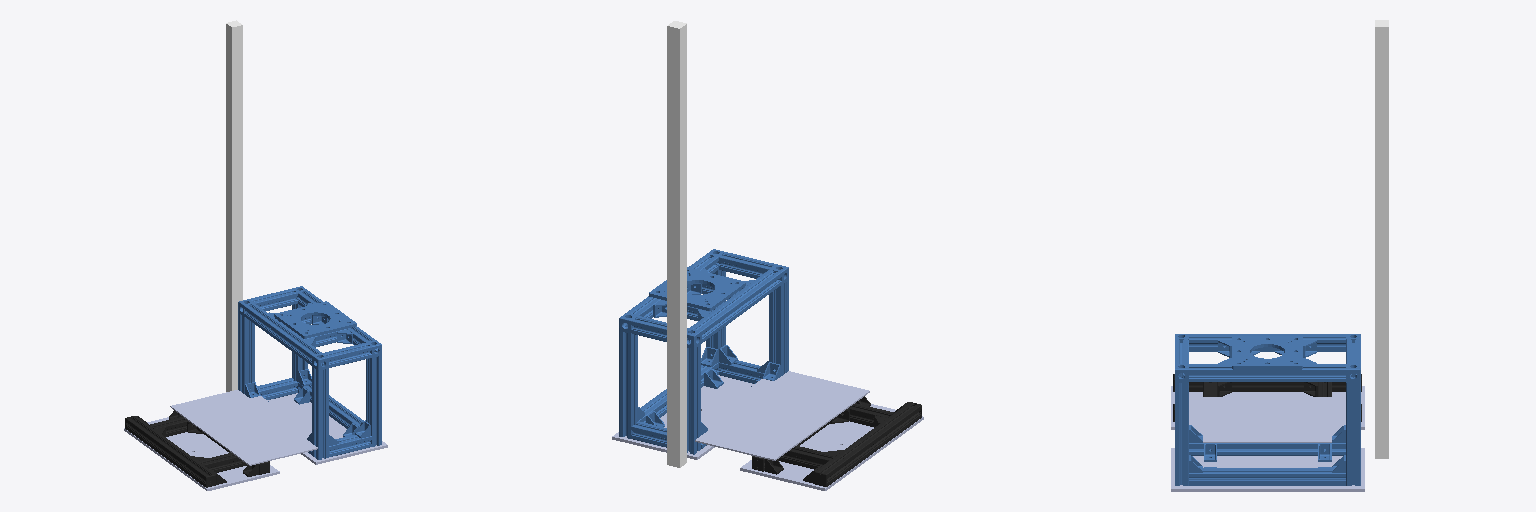
URDF robot description (urdf_visualizer):
<?xml version="1.0" encoding="utf-8"?>
<!-- This URDF was automatically created by SolidWorks to URDF Exporter! Originally created by [author] ([email redacted]) 
     Commit Version: 1.6.0-1-g15f4949  Build Version: 1.6.7594.29634
     For more information, please see http://wiki.ros.org/sw_urdf_exporter -->
<robot
  name="urdf_visualizer">
  <link
    name="structure_base">
    <inertial>
      <origin
        xyz="0.00053394 -0.00074037 0.057025"
        rpy="0 0 0" />
      <mass
        value="0.93175" />
      <inertia
        ixx="0.025261"
        ixy="-3.427E-05"
        ixz="-1.0125E-20"
        iyy="0.0080646"
        iyz="-7.6497E-20"
        izz="0.033322" />
    </inertial>
    <visual>
      <origin
        xyz="0 0 0"
        rpy="0 0 0" />
      <geometry>
        <mesh
          filename="package://urdf_visualizer/meshes/structure_base.STL" />
      </geometry>
      <material
        name="">
        <color
          rgba="0.79216 0.81961 0.93333 1" />
      </material>
    </visual>
    <collision>
      <origin
        xyz="0 0 0"
        rpy="0 0 0" />
      <geometry>
        <mesh
          filename="package://urdf_visualizer/meshes/structure_base.STL" />
      </geometry>
    </collision>
  </link>
  <link
    name="front_plate">
    <inertial>
      <origin
        xyz="0.0001243 -4.5103E-17 0.0047625"
        rpy="0 0 0" />
      <mass
        value="1.7643" />
      <inertia
        ixx="0.054775"
        ixy="-9.9446E-19"
        ixz="1.7219E-20"
        iyy="0.013677"
        iyz="-1.2771E-20"
        izz="0.068426" />
    </inertial>
    <visual>
      <origin
        xyz="0 0 0"
        rpy="0 0 0" />
      <geometry>
        <mesh
          filename="package://urdf_visualizer/meshes/front_plate.STL" />
      </geometry>
      <material
        name="">
        <color
          rgba="0.79216 0.81961 0.93333 1" />
      </material>
    </visual>
    <collision>
      <origin
        xyz="0 0 0"
        rpy="0 0 0" />
      <geometry>
        <mesh
          filename="package://urdf_visualizer/meshes/front_plate.STL" />
      </geometry>
    </collision>
  </link>
  <joint
    name="front_plate_joint"
    type="fixed">
    <origin
      xyz="0.26401 0 0"
      rpy="0 0 0" />
    <parent
      link="structure_base" />
    <child
      link="front_plate" />
    <axis
      xyz="0 0 0" />
  </joint>
  <link
    name="front_structure">
    <inertial>
      <origin
        xyz="0 -0.0047667 0.21635"
        rpy="0 0 0" />
      <mass
        value="3.0506" />
      <inertia
        ixx="0.030259"
        ixy="-3.6628E-11"
        ixz="1.9467E-16"
        iyy="0.010629"
        iyz="1.9469E-16"
        izz="0.02365" />
    </inertial>
    <visual>
      <origin
        xyz="0 0 0"
        rpy="0 0 0" />
      <geometry>
        <mesh
          filename="package://urdf_visualizer/meshes/front_structure.STL" />
      </geometry>
      <material
        name="">
        <color
          rgba="0.33725 0.52941 0.75686 1" />
      </material>
    </visual>
    <collision>
      <origin
        xyz="0 0 0"
        rpy="0 0 0" />
      <geometry>
        <mesh
          filename="package://urdf_visualizer/meshes/front_structure.STL" />
      </geometry>
    </collision>
  </link>
  <joint
    name="front_structure_joint"
    type="fixed">
    <origin
      xyz="0 0 0.011925"
      rpy="0 0 0" />
    <parent
      link="front_plate" />
    <child
      link="front_structure" />
    <axis
      xyz="0 0 0" />
  </joint>
  <link
    name="robot_mount">
    <inertial>
      <origin
        xyz="3.6942E-09 1.9231E-09 -0.0056497"
        rpy="0 0 0" />
      <mass
        value="0.44151" />
      <inertia
        ixx="0.0021724"
        ixy="-9.242E-07"
        ixz="1.3802E-12"
        iyy="0.0021724"
        iyz="7.5078E-13"
        izz="0.0043355" />
    </inertial>
    <visual>
      <origin
        xyz="0 0 0"
        rpy="0 0 0" />
      <geometry>
        <mesh
          filename="package://urdf_visualizer/meshes/robot_mount.STL" />
      </geometry>
      <material
        name="">
        <color
          rgba="0.33725 0.52941 0.75686 1" />
      </material>
    </visual>
    <collision>
      <origin
        xyz="0 0 0"
        rpy="0 0 0" />
      <geometry>
        <mesh
          filename="package://urdf_visualizer/meshes/robot_mount.STL" />
      </geometry>
    </collision>
  </link>
  <joint
    name="robot_mount_joint"
    type="fixed">
    <origin
      xyz="0.0225 0 0.41385"
      rpy="0 0 0" />
    <parent
      link="front_structure" />
    <child
      link="robot_mount" />
    <axis
      xyz="0 0 0" />
  </joint>
  <link
    name="rear_plate">
    <inertial>
      <origin
        xyz="-8.8189E-05 -2.3592E-16 0.0047625"
        rpy="0 0 0" />
      <mass
        value="1.7661" />
      <inertia
        ixx="0.054676"
        ixy="-4.2446E-18"
        ixz="-8.5997E-20"
        iyy="0.01368"
        iyz="3.6207E-20"
        izz="0.068328" />
    </inertial>
    <visual>
      <origin
        xyz="0 0 0"
        rpy="0 0 0" />
      <geometry>
        <mesh
          filename="package://urdf_visualizer/meshes/rear_plate.STL" />
      </geometry>
      <material
        name="">
        <color
          rgba="0.79216 0.81961 0.93333 1" />
      </material>
    </visual>
    <collision>
      <origin
        xyz="0 0 0"
        rpy="0 0 0" />
      <geometry>
        <mesh
          filename="package://urdf_visualizer/meshes/rear_plate.STL" />
      </geometry>
    </collision>
  </link>
  <joint
    name="rear_plate_joint"
    type="fixed">
    <origin
      xyz="-0.19368 0 0"
      rpy="0 0 0" />
    <parent
      link="structure_base" />
    <child
      link="rear_plate" />
    <axis
      xyz="0 0 0" />
  </joint>
  <link
    name="rear_strucuture">
    <inertial>
      <origin
        xyz="-1.1102E-16 -9.3675E-17 0.020184"
        rpy="0 0 0" />
      <mass
        value="1.0432" />
      <inertia
        ixx="0.017816"
        ixy="1.1339E-11"
        ixz="-1.204E-20"
        iyy="0.00087091"
        iyz="2.1262E-20"
        izz="0.018287" />
    </inertial>
    <visual>
      <origin
        xyz="0 0 0"
        rpy="0 0 0" />
      <geometry>
        <mesh
          filename="package://urdf_visualizer/meshes/rear_strucuture.STL" />
      </geometry>
      <material
        name="">
        <color
          rgba="0.19608 0.19608 0.19608 1" />
      </material>
    </visual>
    <collision>
      <origin
        xyz="0 0 0"
        rpy="0 0 0" />
      <geometry>
        <mesh
          filename="package://urdf_visualizer/meshes/rear_strucuture.STL" />
      </geometry>
    </collision>
  </link>
  <joint
    name="rear_strucuture_joint"
    type="fixed">
    <origin
      xyz="-0.0174 0 0.011025"
      rpy="0 0 0" />
    <parent
      link="rear_plate" />
    <child
      link="rear_strucuture" />
    <axis
      xyz="0 0 0" />
  </joint>
  <link
    name="controler">
    <inertial>
      <origin
        xyz="-0.0090029 0.0028411 0.16946"
        rpy="0 0 0" />
      <mass
        value="1.2104" />
      <inertia
        ixx="0.0073057"
        ixy="5.4395E-06"
        ixz="4.7115E-06"
        iyy="0.0041492"
        iyz="-0.00018983"
        izz="0.0063749" />
    </inertial>
    <visual>
      <origin
        xyz="0 0 0"
        rpy="0 0 0" />
      <geometry>
        <mesh
          filename="package://urdf_visualizer/meshes/controler.STL" />
      </geometry>
      <material
        name="">
        <color
          rgba="0.75294 0.75294 0.75294 1" />
      </material>
    </visual>
    <collision>
      <origin
        xyz="0 0 0"
        rpy="0 0 0" />
      <geometry>
        <mesh
          filename="package://urdf_visualizer/meshes/controler.STL" />
      </geometry>
    </collision>
  </link>
  <joint
    name="controler_joint"
    type="fixed">
    <origin
      xyz="-0.046276 -0.039281 0.0435"
      rpy="0 0 -0.0052941" />
    <parent
      link="rear_strucuture" />
    <child
      link="controler" />
    <axis
      xyz="0 0 0" />
  </joint>
  <link
    name="camera_mount">
    <inertial>
      <origin
        xyz="0 0 0"
        rpy="0 0 0" />
      <mass
        value="0" />
      <inertia
        ixx="0"
        ixy="0"
        ixz="0"
        iyy="0"
        iyz="0"
        izz="0" />
    </inertial>
    <visual>
      <origin
        xyz="0 0 0"
        rpy="0 0 0" />
      <geometry>
        <mesh
          filename="package://urdf_visualizer/meshes/camera_mount.STL" />
      </geometry>
      <material
        name="">
        <color
          rgba="1 1 1 1" />
      </material>
    </visual>
    <collision>
      <origin
        xyz="0 0 0"
        rpy="0 0 0" />
      <geometry>
        <mesh
          filename="package://urdf_visualizer/meshes/camera_mount.STL" />
      </geometry>
    </collision>
  </link>
  <joint
    name="camera_mount_joint"
    type="fixed">
    <origin
      xyz="0.15151 0.36 0"
      rpy="0 0 0" />
    <parent
      link="structure_base" />
    <child
      link="camera_mount" />
    <axis
      xyz="0 0 0" />
  </joint>
</robot>

--- Facts derived from the render (not from the file) ---
3 views of the same robot in one strip: view 1: azimuth 30°, elevation 25°; view 2: azimuth 150°, elevation 25°; view 3: azimuth 270°, elevation 25° (orthographic).
Model urdf_visualizer with 8 links and 7 joints (7 fixed), rooted at structure_base, posed every joint at zero.
Links seen in each view (by area): view 1: front_structure, structure_base, camera_mount, rear_strucuture, rear_plate, robot_mount, front_plate; view 2: front_structure, camera_mount, structure_base, rear_strucuture, rear_plate, front_plate, robot_mount; view 3: front_structure, structure_base, camera_mount, front_plate, robot_mount, rear_strucuture, rear_plate.
Link boxes in pixels (bbox=[...]): front_structure: bbox=[238, 286, 381, 459]; structure_base: bbox=[170, 390, 317, 465]; camera_mount: bbox=[226, 20, 242, 391]; rear_strucuture: bbox=[125, 410, 269, 487]; rear_plate: bbox=[124, 417, 279, 490]; robot_mount: bbox=[274, 301, 356, 338]; front_plate: bbox=[267, 393, 387, 464]; front_structure: bbox=[619, 249, 788, 454]; camera_mount: bbox=[667, 21, 686, 467]; structure_base: bbox=[695, 371, 869, 460]; rear_strucuture: bbox=[752, 396, 921, 486]; rear_plate: bbox=[740, 404, 923, 490]; front_plate: bbox=[612, 375, 753, 459]; robot_mount: bbox=[649, 267, 745, 310]; front_structure: bbox=[1175, 334, 1360, 485]; structure_base: bbox=[1189, 397, 1345, 442]; camera_mount: bbox=[1375, 20, 1388, 458]; front_plate: bbox=[1171, 448, 1364, 491]; robot_mount: bbox=[1232, 336, 1302, 369]; rear_strucuture: bbox=[1173, 374, 1361, 421]; rear_plate: bbox=[1171, 386, 1364, 429].
Size in the robot's own frame: 0.7625 by 0.6873 by 1.5 metres.
Meshes: 8 distinct files referenced, 7 mesh visuals loaded (7 binary STL); not drawn: 1 (reference not matched to a file when rendering).